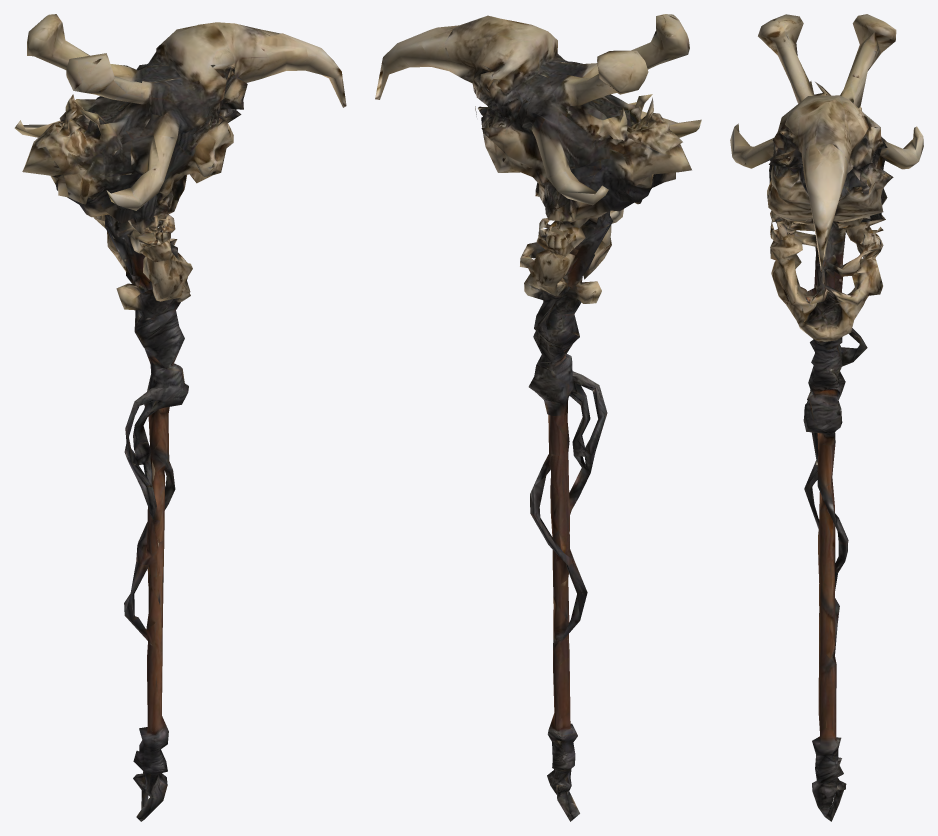
The model's file is 1051_wand.glb.
The picture shows the model from 3 angles, left to right: view 1: azimuth 30°, elevation 25°; view 2: azimuth 150°, elevation 25°; view 3: azimuth 270°, elevation 25°; orthographic projection. The views are drawn at different scales.
Parts seen in each view (by area): view 1: Model; view 2: Model; view 3: Model.
Boxes of the visible parts, bbox=[...] form: Model: bbox=[14, 14, 346, 821]; Model: bbox=[375, 14, 701, 821]; Model: bbox=[730, 14, 923, 821].
Size of the model in its own units: 0.418 by 1 by 0.228.
Materials: 1 (1 with a texture image).
